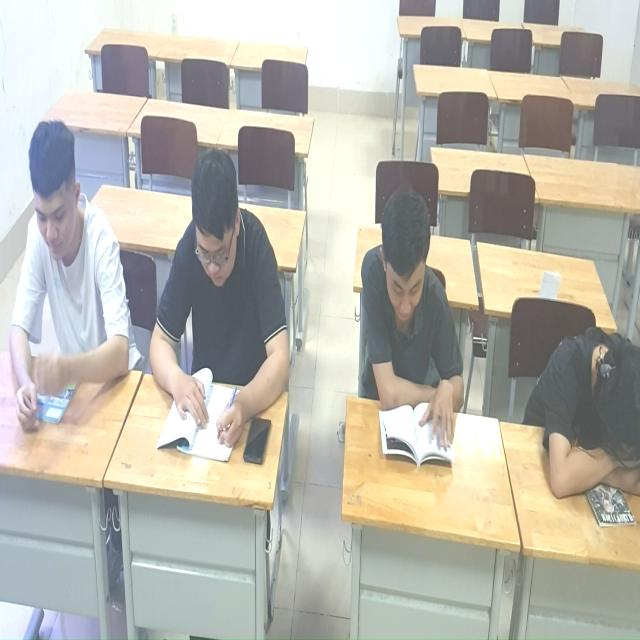read: (146, 144, 296, 482), (348, 160, 482, 475), (7, 113, 124, 437)
sleep: (530, 296, 640, 525)
